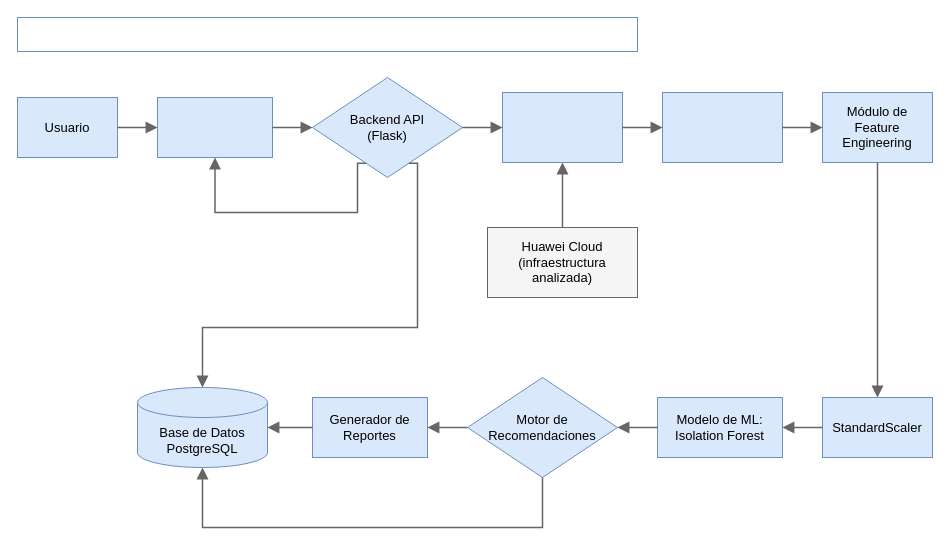
Image size: 950x556. Some labels were removed from this diagram. Here are the shapes that lost their labels. From the top down, the centre of each, then its label:
At (x=327, y=34): "Diagrama de Componentes: Plataforma ML para Infraestructura Cloud".
At (x=214, y=127): "Frontend Web (Dashboard)".
At (x=562, y=127): "Módulo de Recolección de Métricas".
At (x=722, y=127): "Módulo de Preprocesamiento de Datos".
